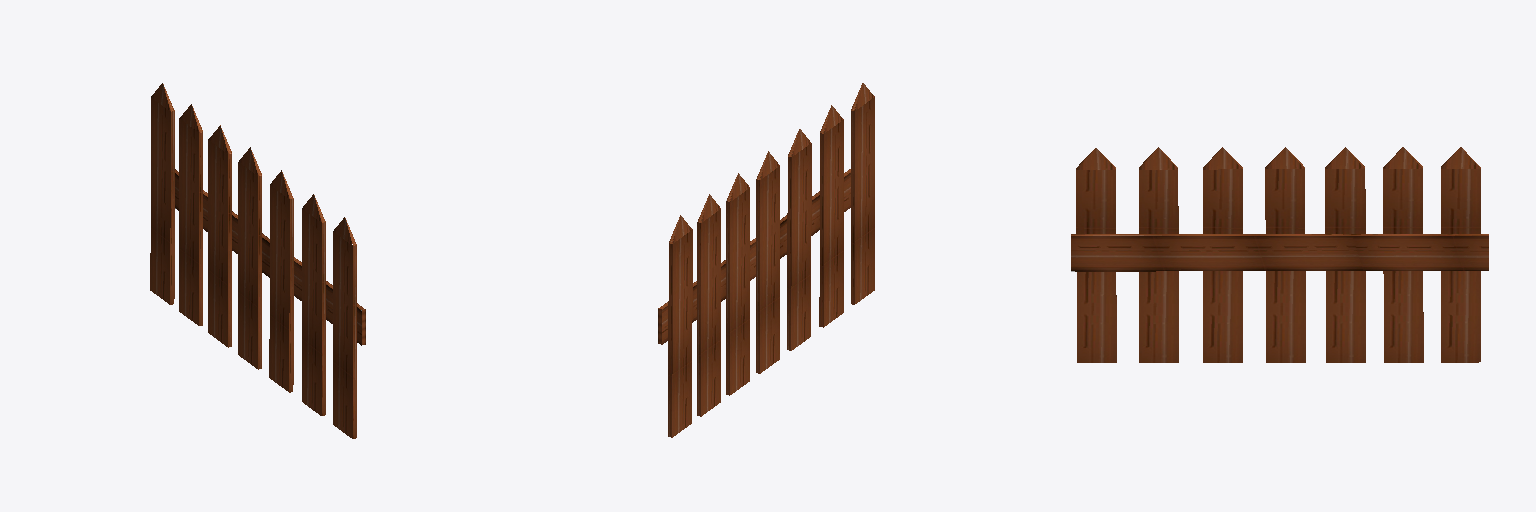
3 views of the same model, side by side, from view 1: azimuth 30°, elevation 25°; view 2: azimuth 150°, elevation 25°; view 3: azimuth 270°, elevation 25° (orthographic).
Parts seen in each view (by area): view 1: model_0; view 2: model_0; view 3: model_0.
Boxes of the visible parts, x1,y1,x2,y2 form: model_0: [150, 83, 365, 438]; model_0: [658, 83, 874, 437]; model_0: [1071, 147, 1488, 362].
Size of the model in its own units: 0.62 by 12.8 by 22.57.
Materials: 1 (1 with a texture image).